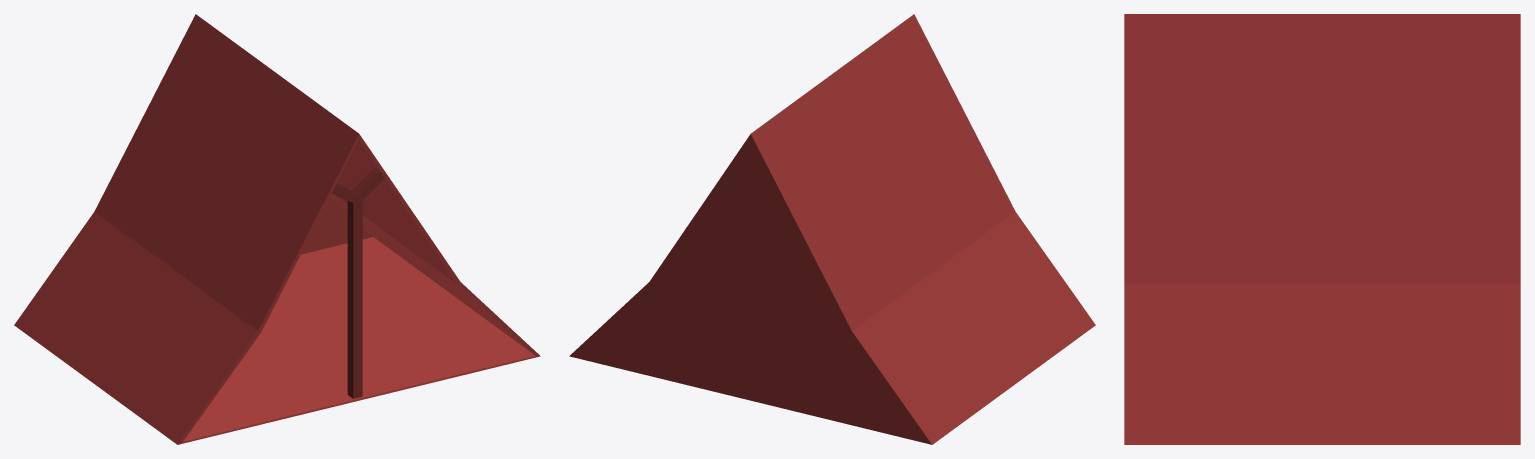
The model's file is Tent_1_Red.fbx.
3 renders of one model, left to right at view 1: azimuth 30°, elevation 25°; view 2: azimuth 150°, elevation 25°; view 3: azimuth 270°, elevation 25°, orthographic. The views are drawn at different scales.
Visible parts, largest first — view 1: Tent_1_Red_Part_3, Tent_1_Red_Part_1, Tent_1_Red_Part_2, Tent_1_Red_Part_5, Tent_1_Red_Part_7, Tent_1_Red_Part_4, Tent_1_Red_Part_6; view 2: Tent_1_Red_Part_3, Tent_1_Red_Part_6, Tent_1_Red_Part_2, Tent_1_Red_Part_5; view 3: Tent_1_Red_Part_5, Tent_1_Red_Part_4.
Part boxes in pixels (bbox=[...]): Tent_1_Red_Part_3: bbox=[94, 14, 359, 332]; Tent_1_Red_Part_1: bbox=[181, 237, 536, 443]; Tent_1_Red_Part_2: bbox=[14, 212, 260, 444]; Tent_1_Red_Part_5: bbox=[335, 134, 460, 284]; Tent_1_Red_Part_7: bbox=[332, 167, 384, 398]; Tent_1_Red_Part_4: bbox=[330, 194, 540, 357]; Tent_1_Red_Part_6: bbox=[301, 198, 372, 254]; Tent_1_Red_Part_3: bbox=[750, 14, 1015, 332]; Tent_1_Red_Part_6: bbox=[573, 140, 928, 443]; Tent_1_Red_Part_2: bbox=[849, 212, 1095, 444]; Tent_1_Red_Part_5: bbox=[649, 134, 750, 284]; Tent_1_Red_Part_5: bbox=[1124, 14, 1520, 283]; Tent_1_Red_Part_4: bbox=[1124, 283, 1520, 444].
Bounding box in the file's own units: 192 × 135 × 150.
